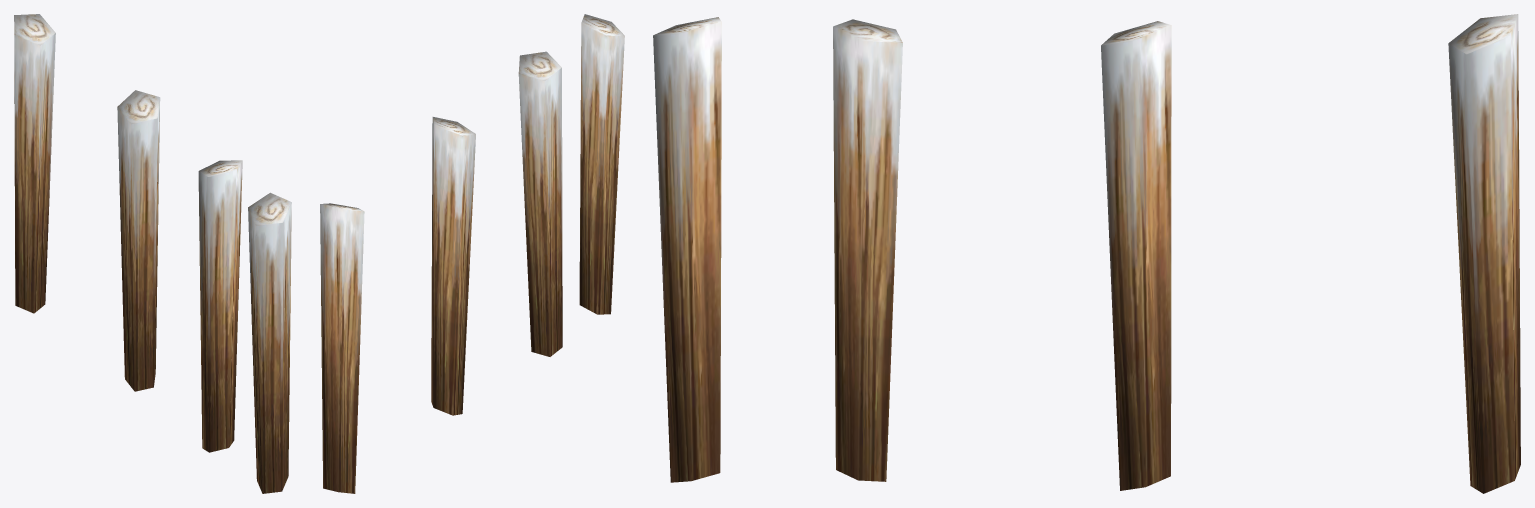
File: SM_Enclosure_02.fbx
The picture shows the model from 3 angles, left to right: view 1: azimuth 30°, elevation 25°; view 2: azimuth 150°, elevation 25°; view 3: azimuth 270°, elevation 25°; orthographic projection. The views are drawn at different scales.
Visible parts, largest first — view 1: SM_Enclosure_02; view 2: SM_Enclosure_02; view 3: SM_Enclosure_02.
Boxes of the visible parts, x1,y1,x2,y2 form: SM_Enclosure_02: (14, 14, 291, 493); SM_Enclosure_02: (320, 14, 624, 493); SM_Enclosure_02: (653, 14, 1520, 493).
Size of the model in its own units: 0.9789 by 5.81 by 9.77.
